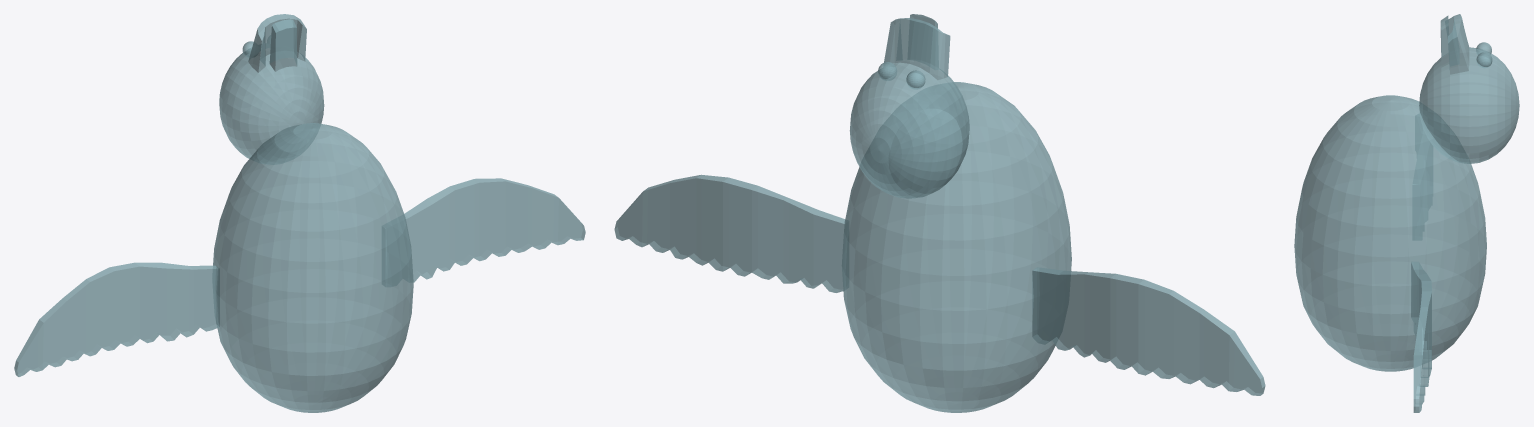
Rendered from ghost_flying_duck.fbx.
3 renders of one model, left to right at view 1: azimuth 30°, elevation 25°; view 2: azimuth 150°, elevation 25°; view 3: azimuth 270°, elevation 25°, orthographic. The views are drawn at different scales.
Parts seen in each view (by area): view 1: Sphere; view 2: Sphere; view 3: Sphere.
Boxes of the visible parts, x1=… form: Sphere: x1=14, y1=14, x2=585, y2=412; Sphere: x1=614, y1=14, x2=1265, y2=412; Sphere: x1=1294, y1=14, x2=1519, y2=412.
Bounding box in the file's own units: 390 × 238 × 140.
